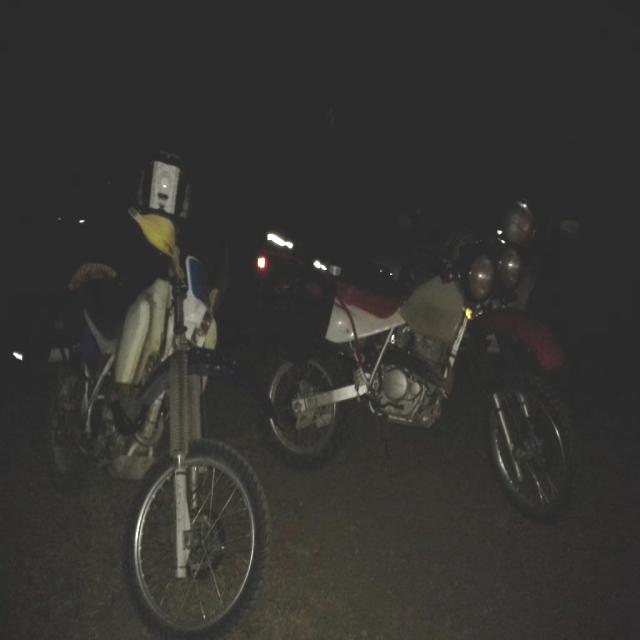Motorbike: (26, 151, 273, 640), (260, 194, 568, 516)
